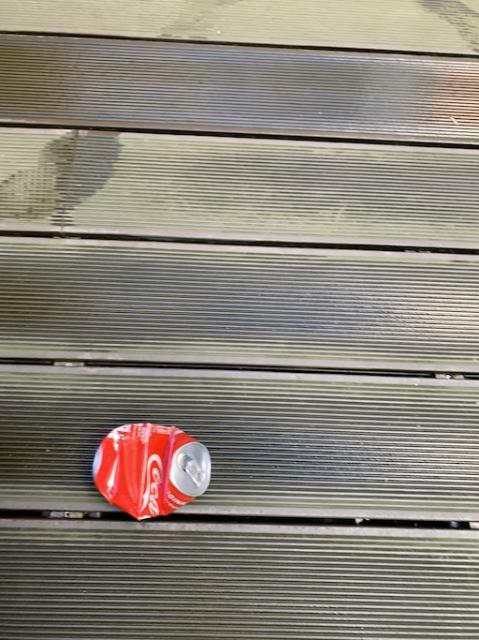metal: (92, 423, 209, 518)
